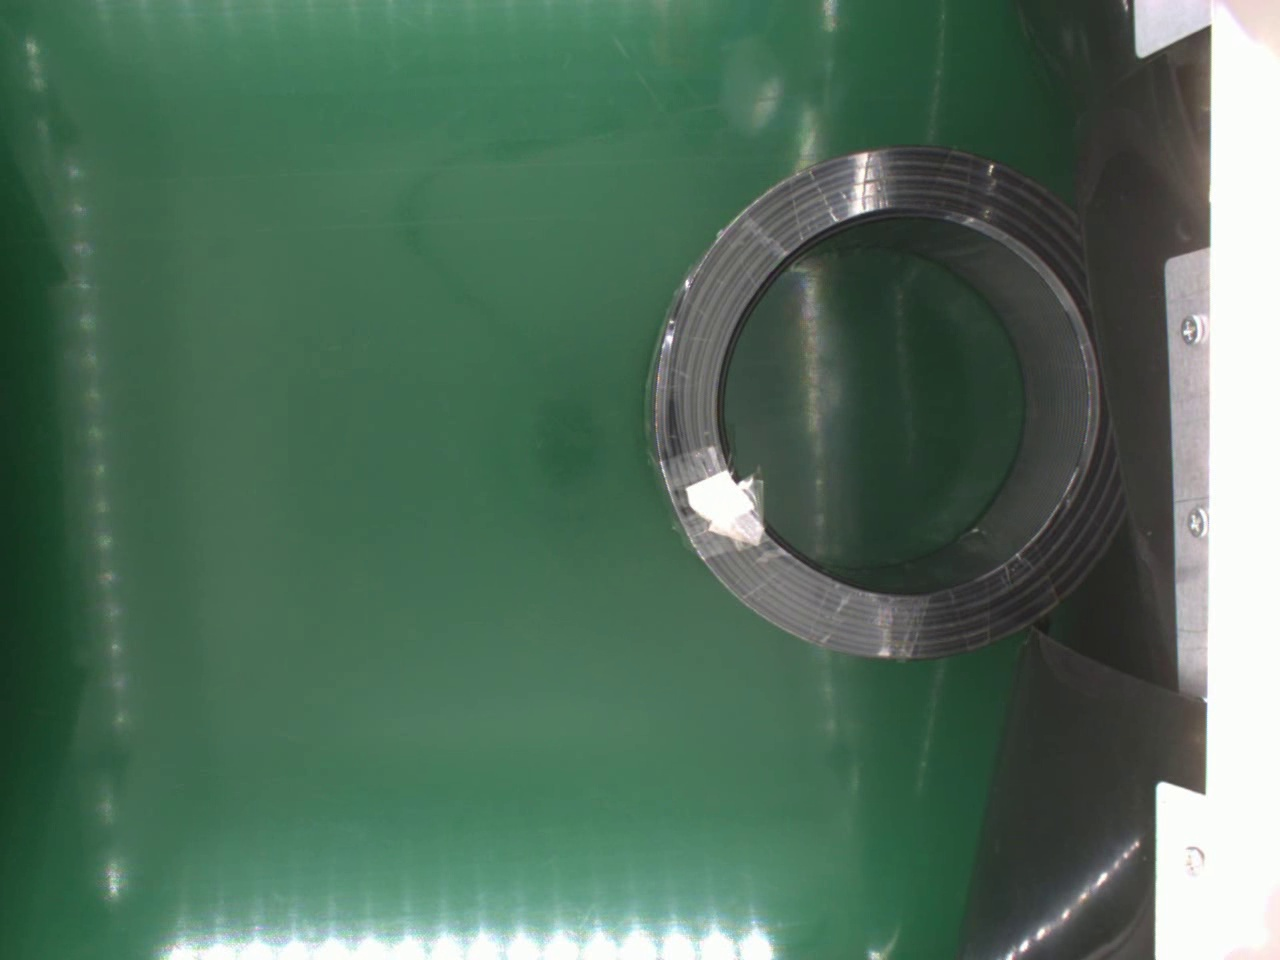black: (644, 135, 1119, 661)
